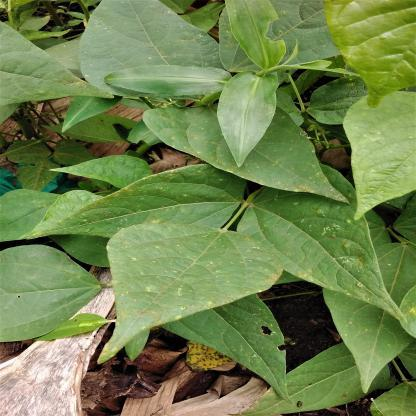Beans_Rust: (74, 222, 296, 358), (258, 178, 404, 320), (147, 106, 352, 200), (88, 164, 250, 236)
